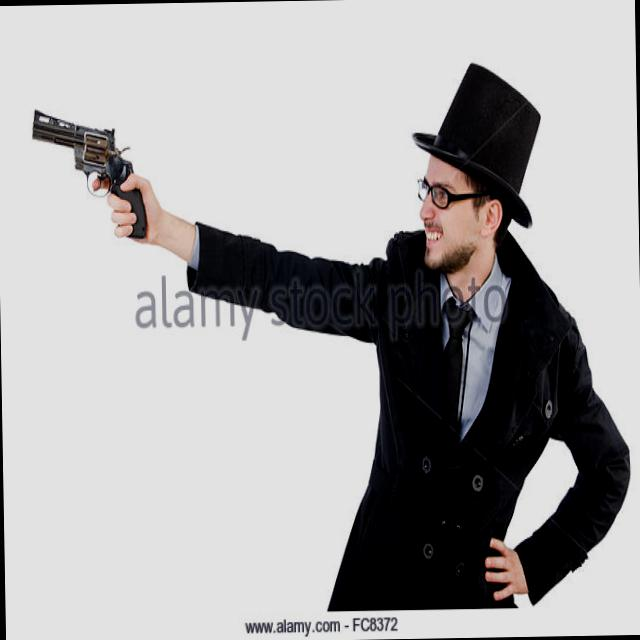handgun: (29, 100, 148, 240)
